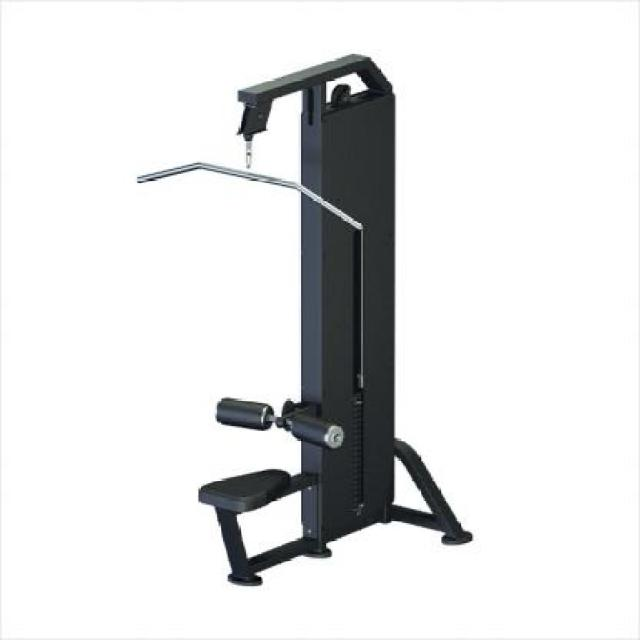Lat Pull Down: (131, 46, 486, 592)
